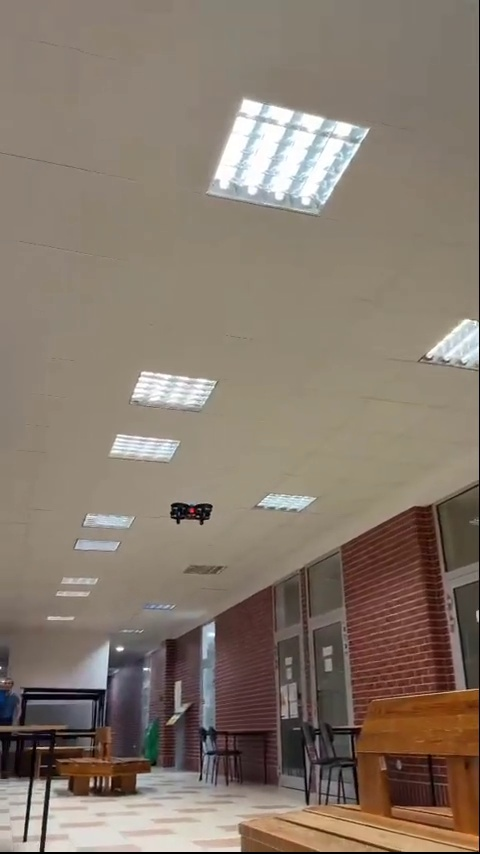drone: (162, 501, 213, 528)
